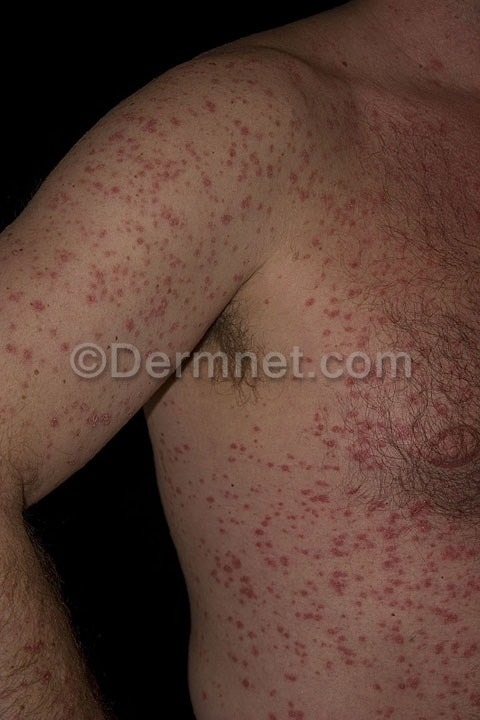Psoriasis: (172, 416, 476, 704), (152, 84, 382, 324), (27, 190, 139, 332)
